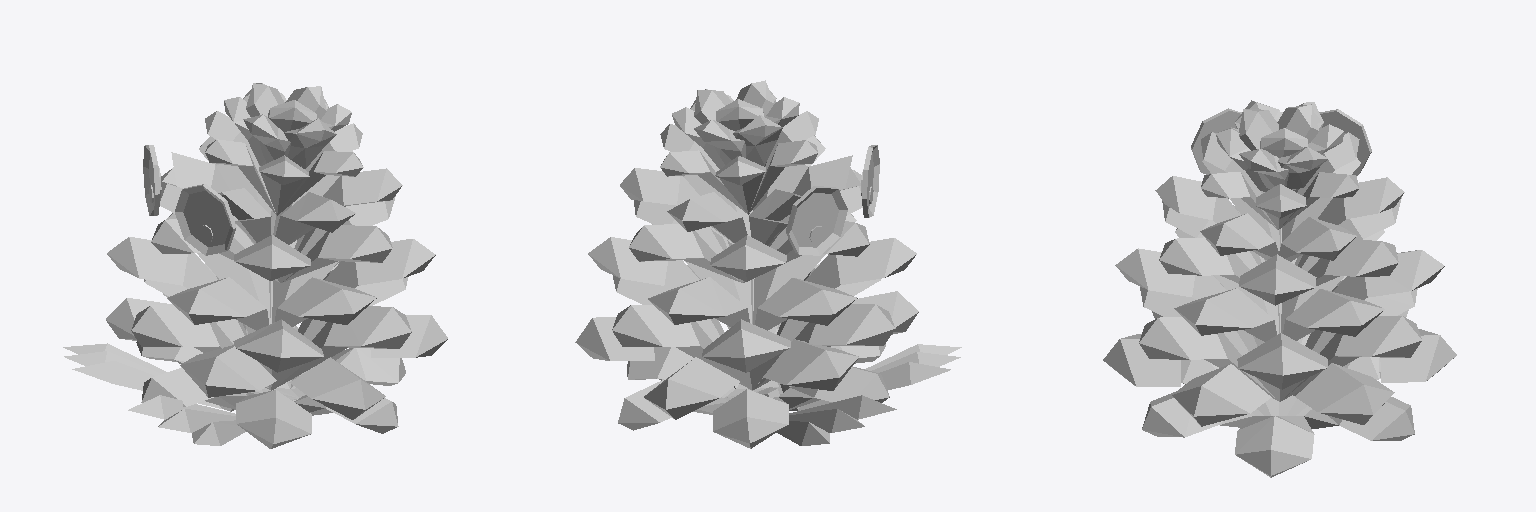
Rendered from pineconeChargingLunge13.obj.
3 views of the same model, side by side, from view 1: azimuth 30°, elevation 25°; view 2: azimuth 150°, elevation 25°; view 3: azimuth 270°, elevation 25° (orthographic).
Visible parts, largest first — view 1: Cube.001_Cube.004; view 2: Cube.001_Cube.004; view 3: Cube.001_Cube.004.
Boxes of the visible parts, <box> form: Cube.001_Cube.004: <box>63,83,447,448</box>; Cube.001_Cube.004: <box>575,80,961,448</box>; Cube.001_Cube.004: <box>1103,100,1456,477</box>.
Size of the model in its own units: 28.14 by 27.19 by 27.55.